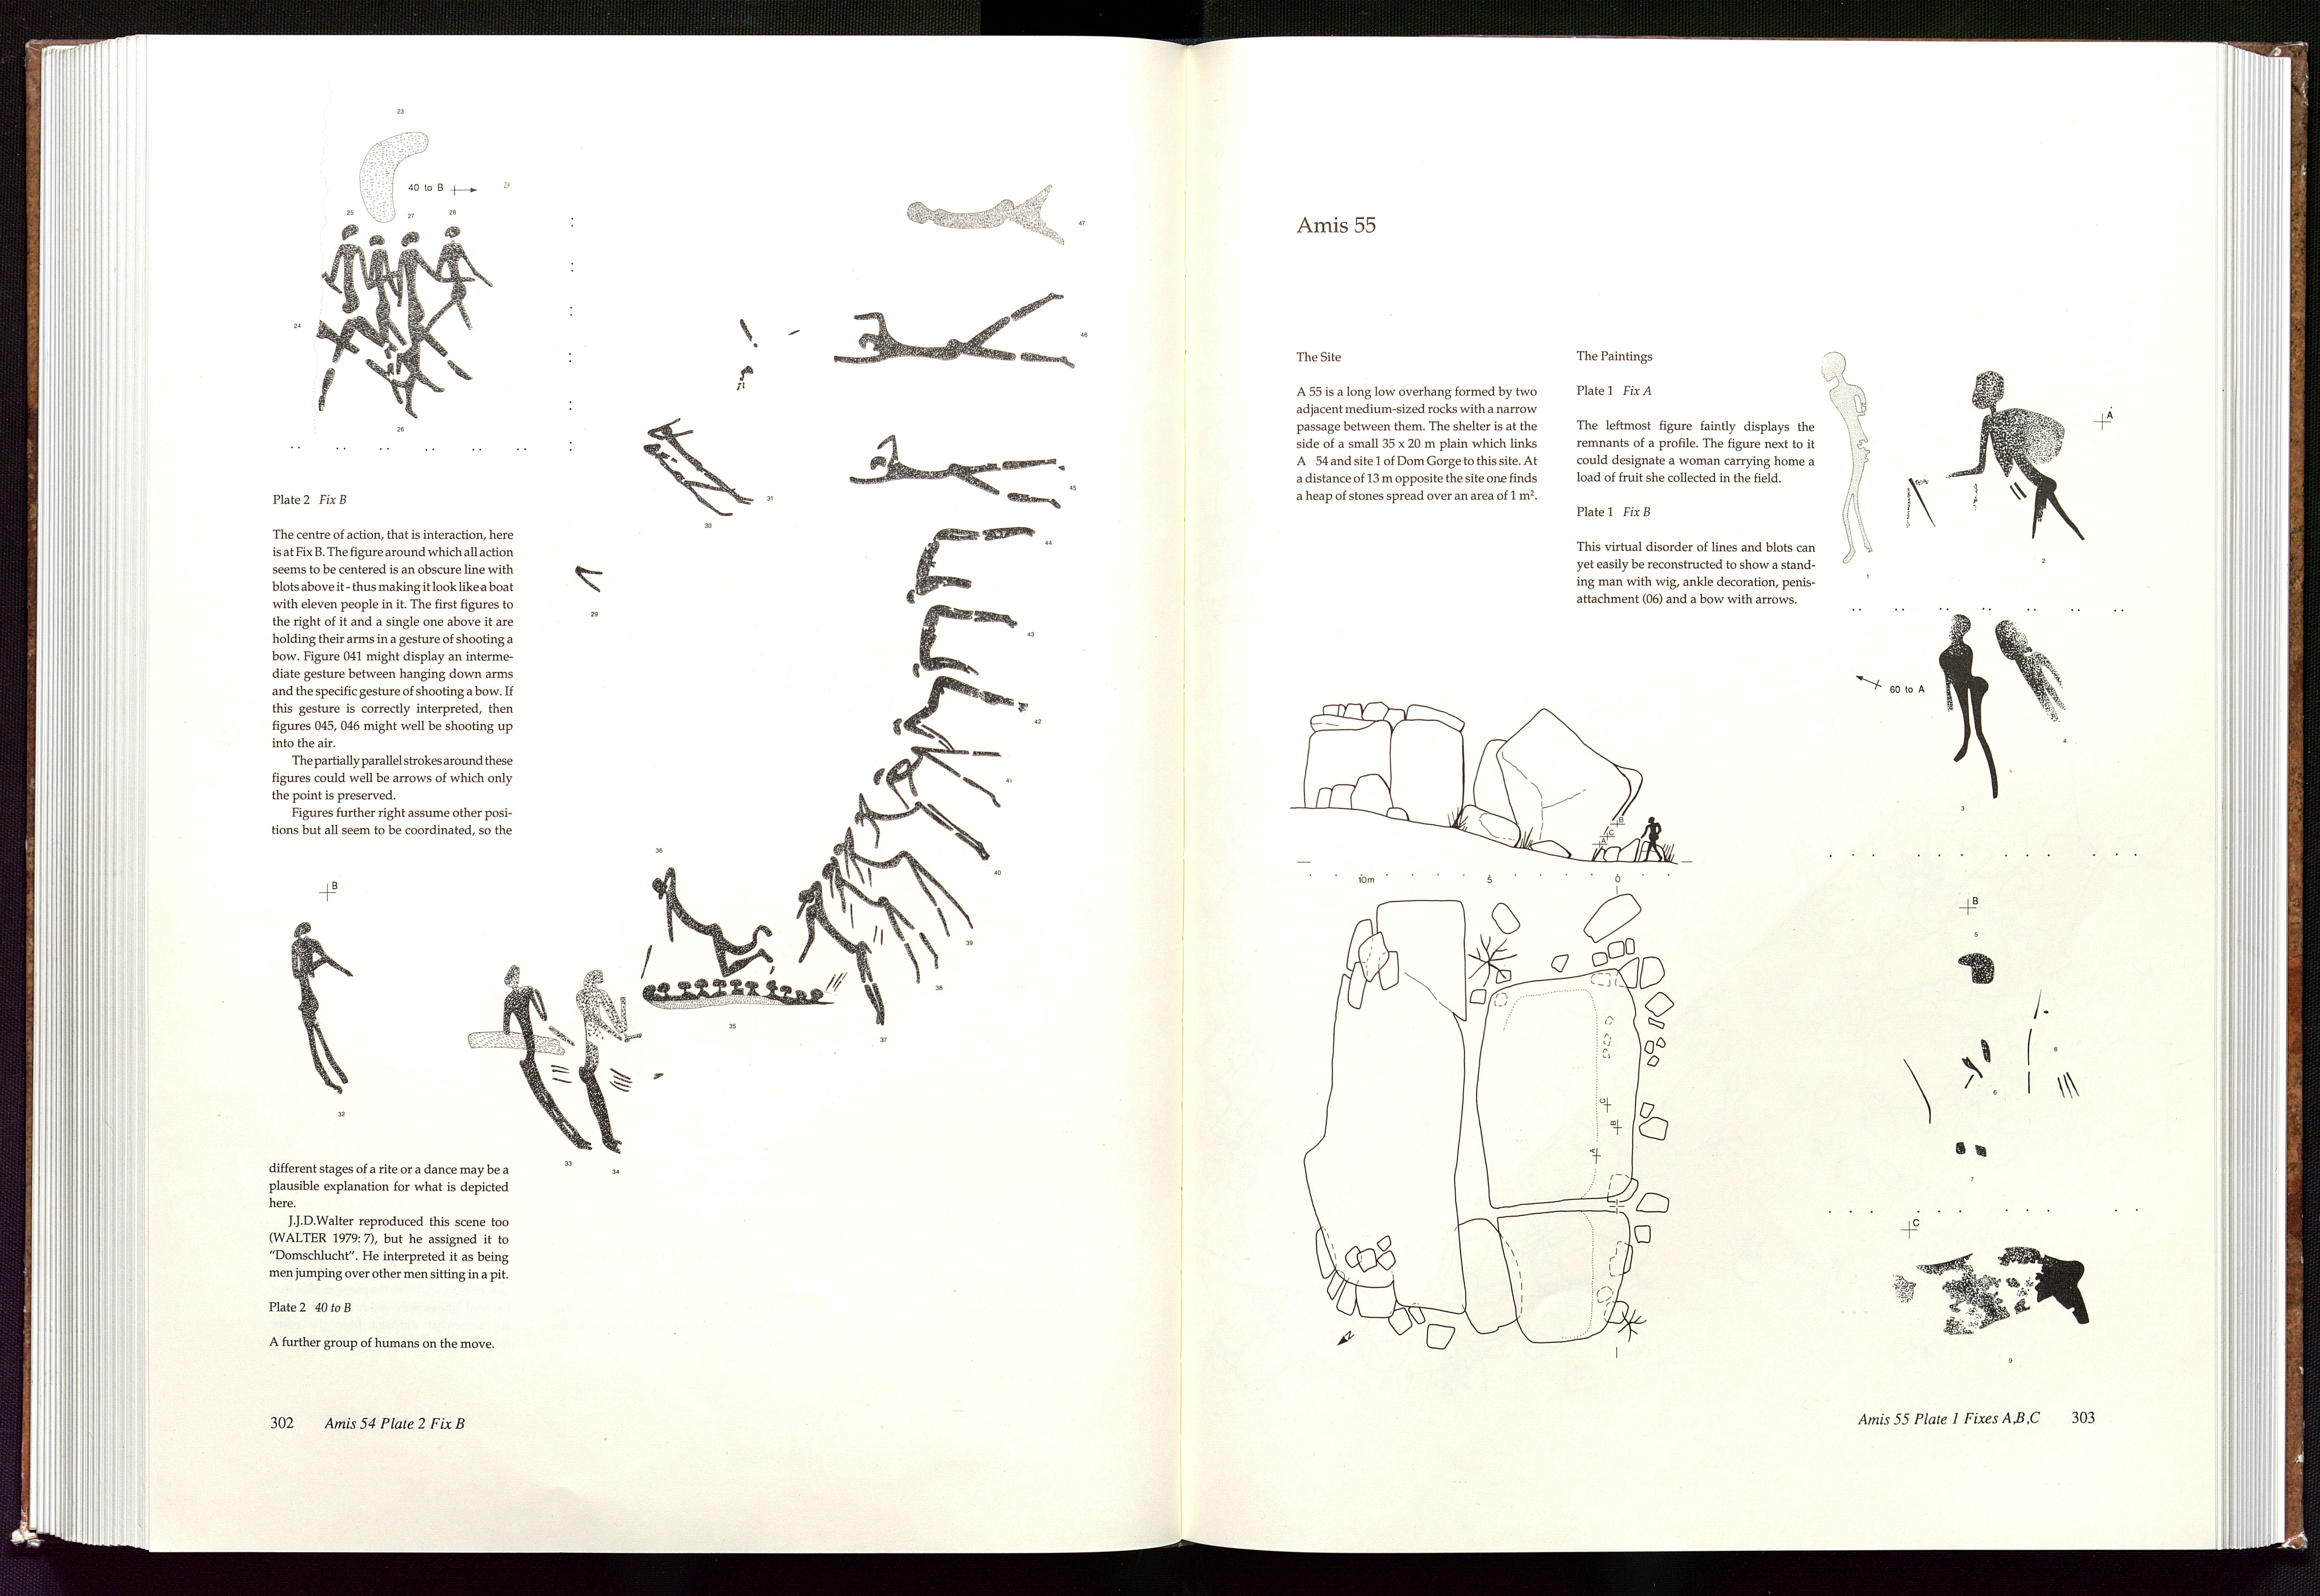human: (1942, 367, 2092, 548), (315, 222, 446, 413), (815, 315, 1069, 394), (499, 961, 595, 1153), (846, 432, 1068, 512), (833, 826, 975, 939), (1810, 346, 1884, 565), (394, 220, 474, 422), (820, 855, 942, 983), (647, 864, 784, 978), (793, 880, 887, 1028), (367, 234, 445, 403), (1934, 610, 2001, 804), (904, 521, 1041, 606), (289, 920, 354, 1095), (575, 964, 631, 1157), (891, 674, 1031, 750), (852, 791, 995, 861), (645, 417, 755, 506), (414, 222, 496, 334), (870, 746, 1004, 811), (911, 604, 1021, 680), (641, 443, 736, 518)
